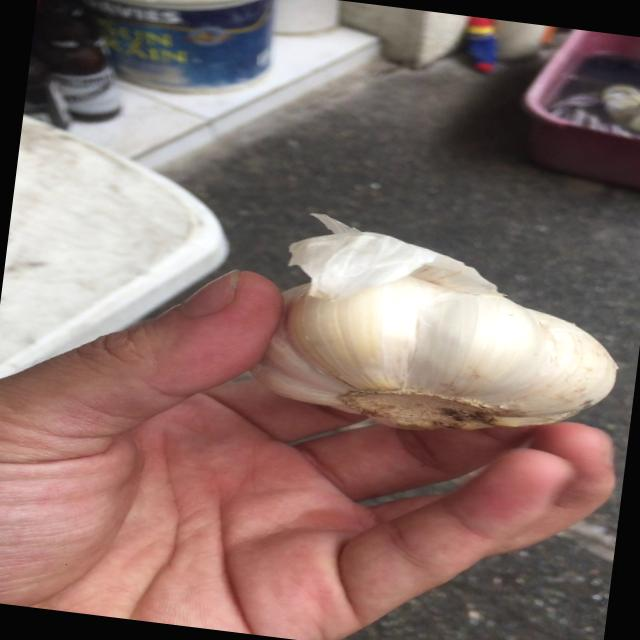garlic: (235, 244, 636, 460)
